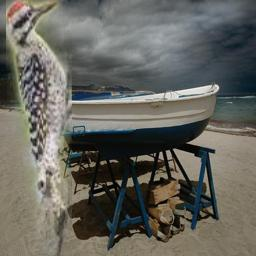Woodpecker: (6, 0, 72, 256)
